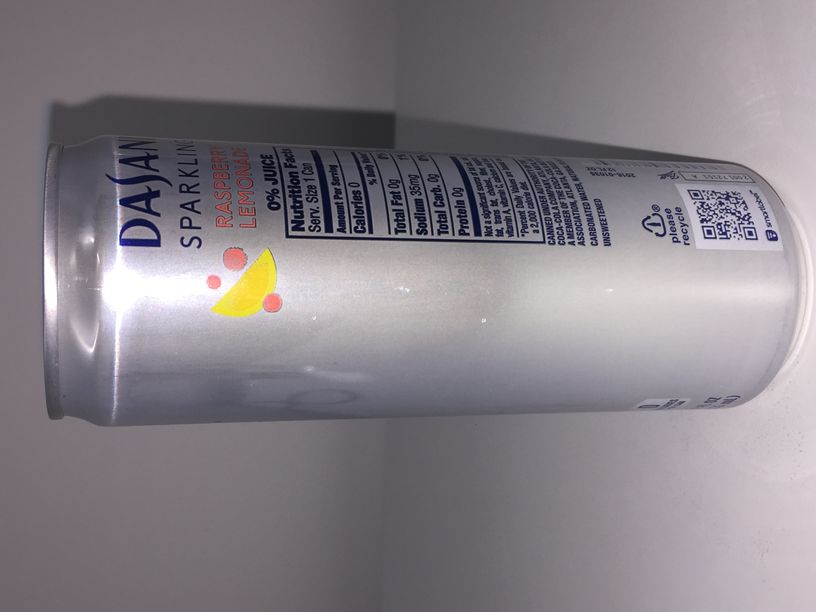lemonade: (41, 133, 805, 427)
